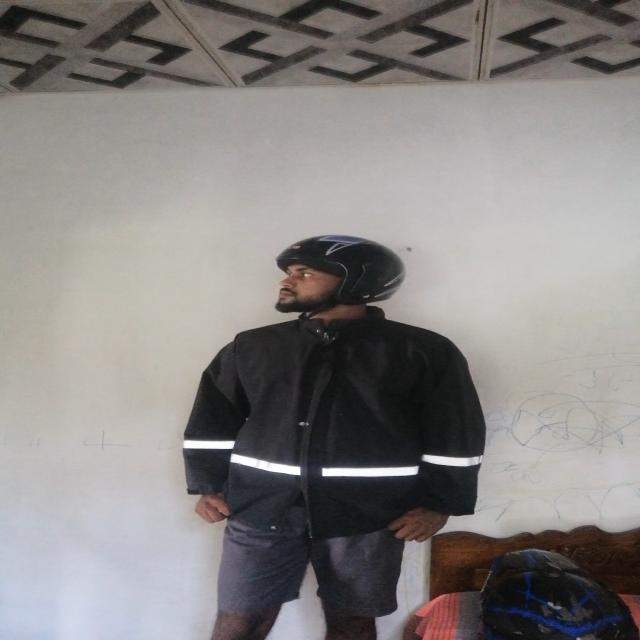Helmet_Wearer: (238, 220, 406, 328)
Jacket_Wearer: (180, 310, 493, 551)
Person: (160, 223, 481, 634)
